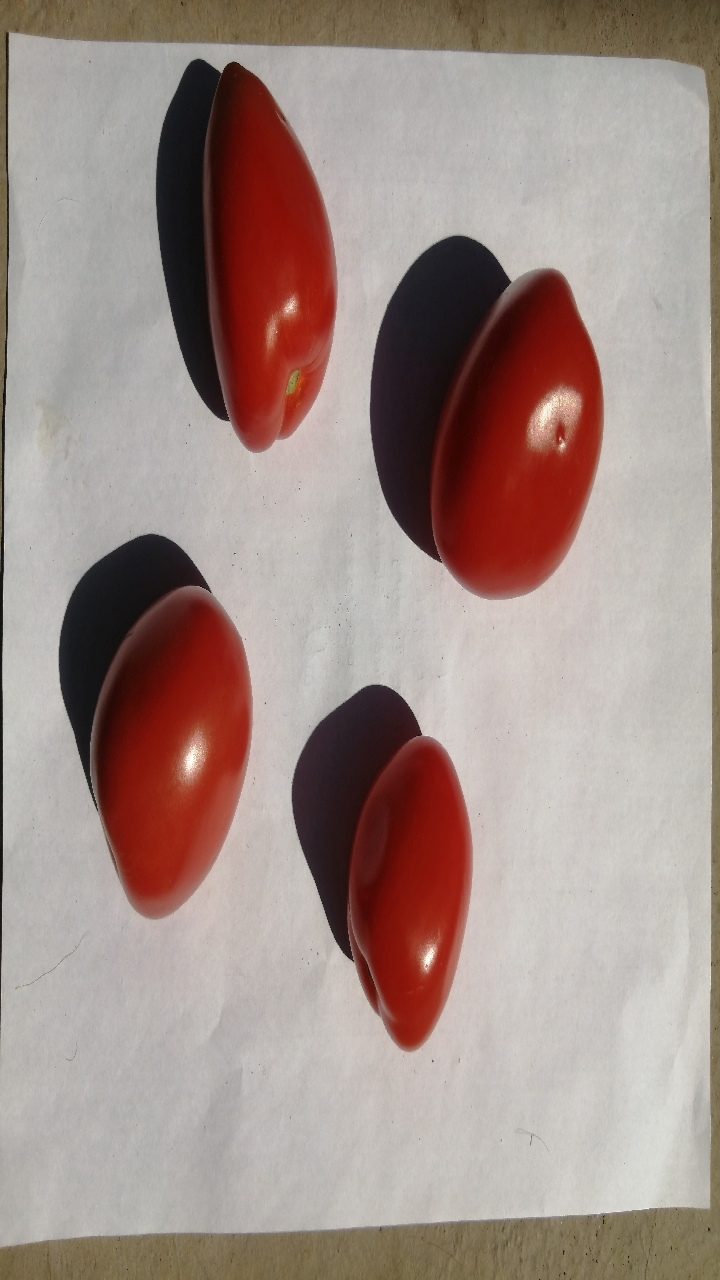tomateRojo: (395, 222, 623, 612), (166, 42, 364, 480), (63, 557, 277, 954), (314, 709, 494, 1068)
